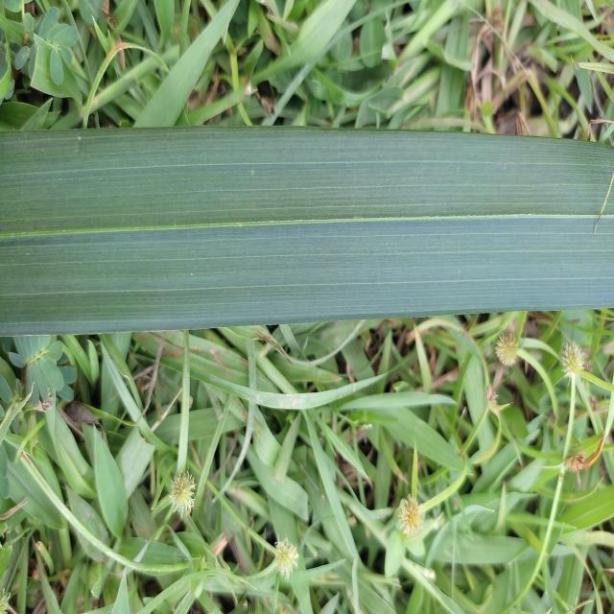Healthy: (0, 128, 614, 332)
